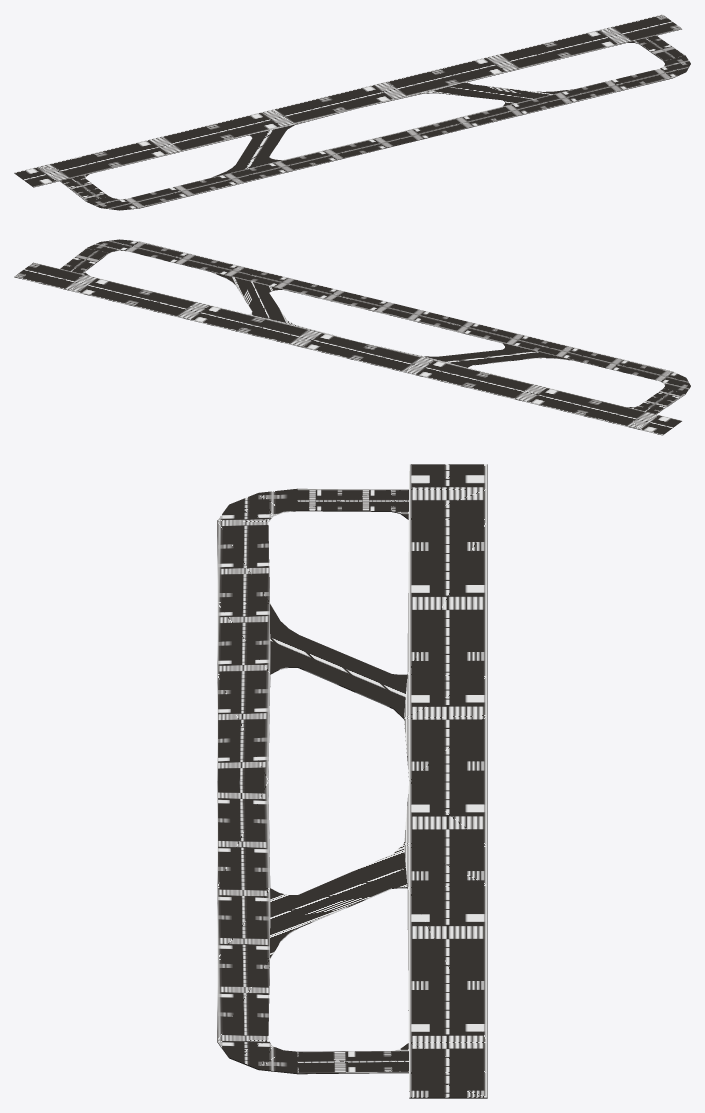
The model's file is Runway.fbx.
3 views of the same model, one above another, from view 1: azimuth 30°, elevation 25°; view 2: azimuth 150°, elevation 25°; view 3: azimuth 270°, elevation 25° (orthographic). The views are drawn at different scales.
Parts seen in each view (by area): view 1: Runway; view 2: Runway; view 3: Runway.
Part boxes in pixels (x1,y1,x2,y2): Runway: (14, 14, 690, 210); Runway: (14, 239, 690, 435); Runway: (217, 464, 487, 1098).
Bounding box in the file's own units: 2047 × 1.38 × 370.
